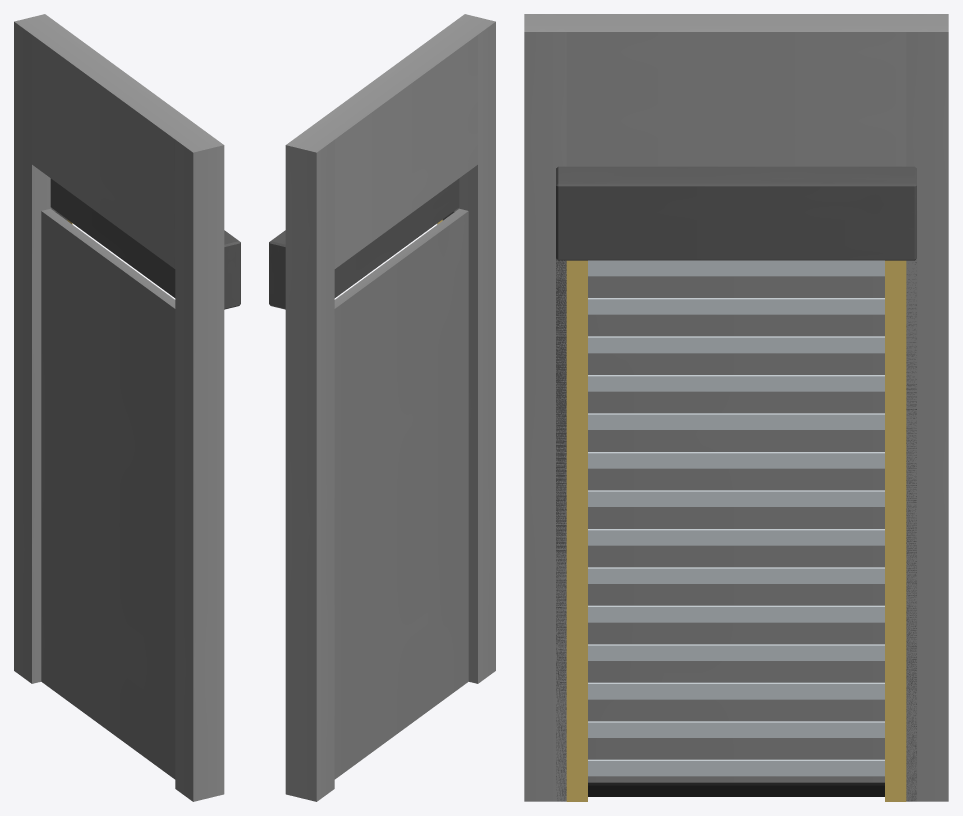
The model's file is SM_Build_Wand_Rolltor.fbx.
3 renders of one model, left to right at view 1: azimuth 30°, elevation 25°; view 2: azimuth 150°, elevation 25°; view 3: azimuth 270°, elevation 25°, orthographic. The views are drawn at different scales.
Visible parts, largest first — view 1: Wand Rolltor; view 2: Wand Rolltor; view 3: Wand Rolltor.
Boxes of the visible parts, x1,y1,x2,y2 form: Wand Rolltor: (14,14,240,801); Wand Rolltor: (269,14,495,801); Wand Rolltor: (524,14,948,801).
Size of the model in its own units: 0.4 by 4 by 2.
